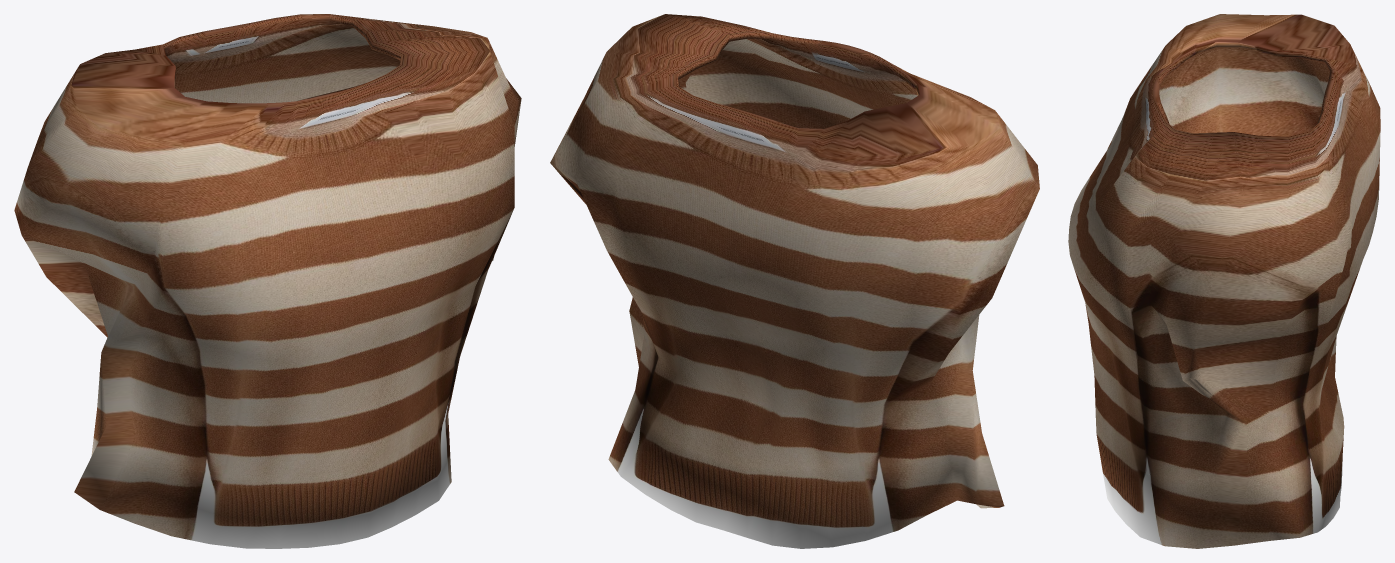
The picture shows the model from 3 angles, left to right: view 1: azimuth 30°, elevation 25°; view 2: azimuth 150°, elevation 25°; view 3: azimuth 270°, elevation 25°; orthographic projection. The views are drawn at different scales.
Parts seen in each view (by area): view 1: garment; view 2: garment; view 3: garment.
Part boxes in pixels (left/top/right/bottom): garment: left=14, top=14, right=521, bottom=548; garment: left=550, top=14, right=1039, bottom=548; garment: left=1068, top=14, right=1380, bottom=548.
Bounding box in the file's own units: 0.5357 × 0.4788 × 0.3371.
Materials: 1 (1 with a texture image).
